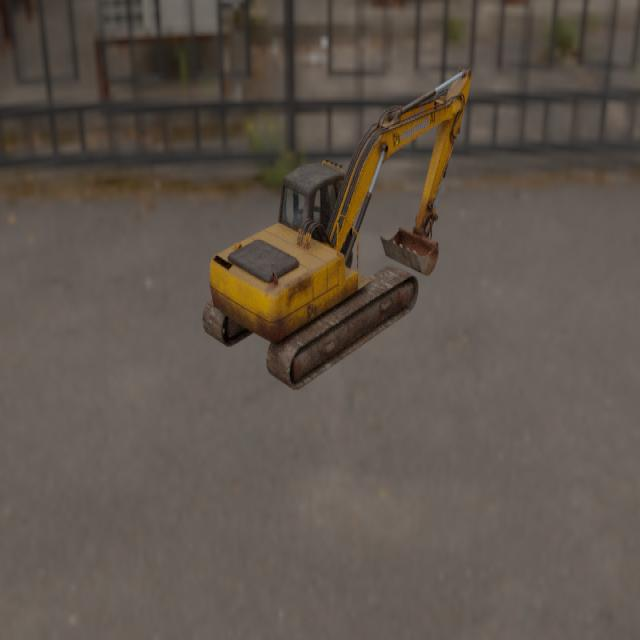excavator: (201, 66, 471, 390)
